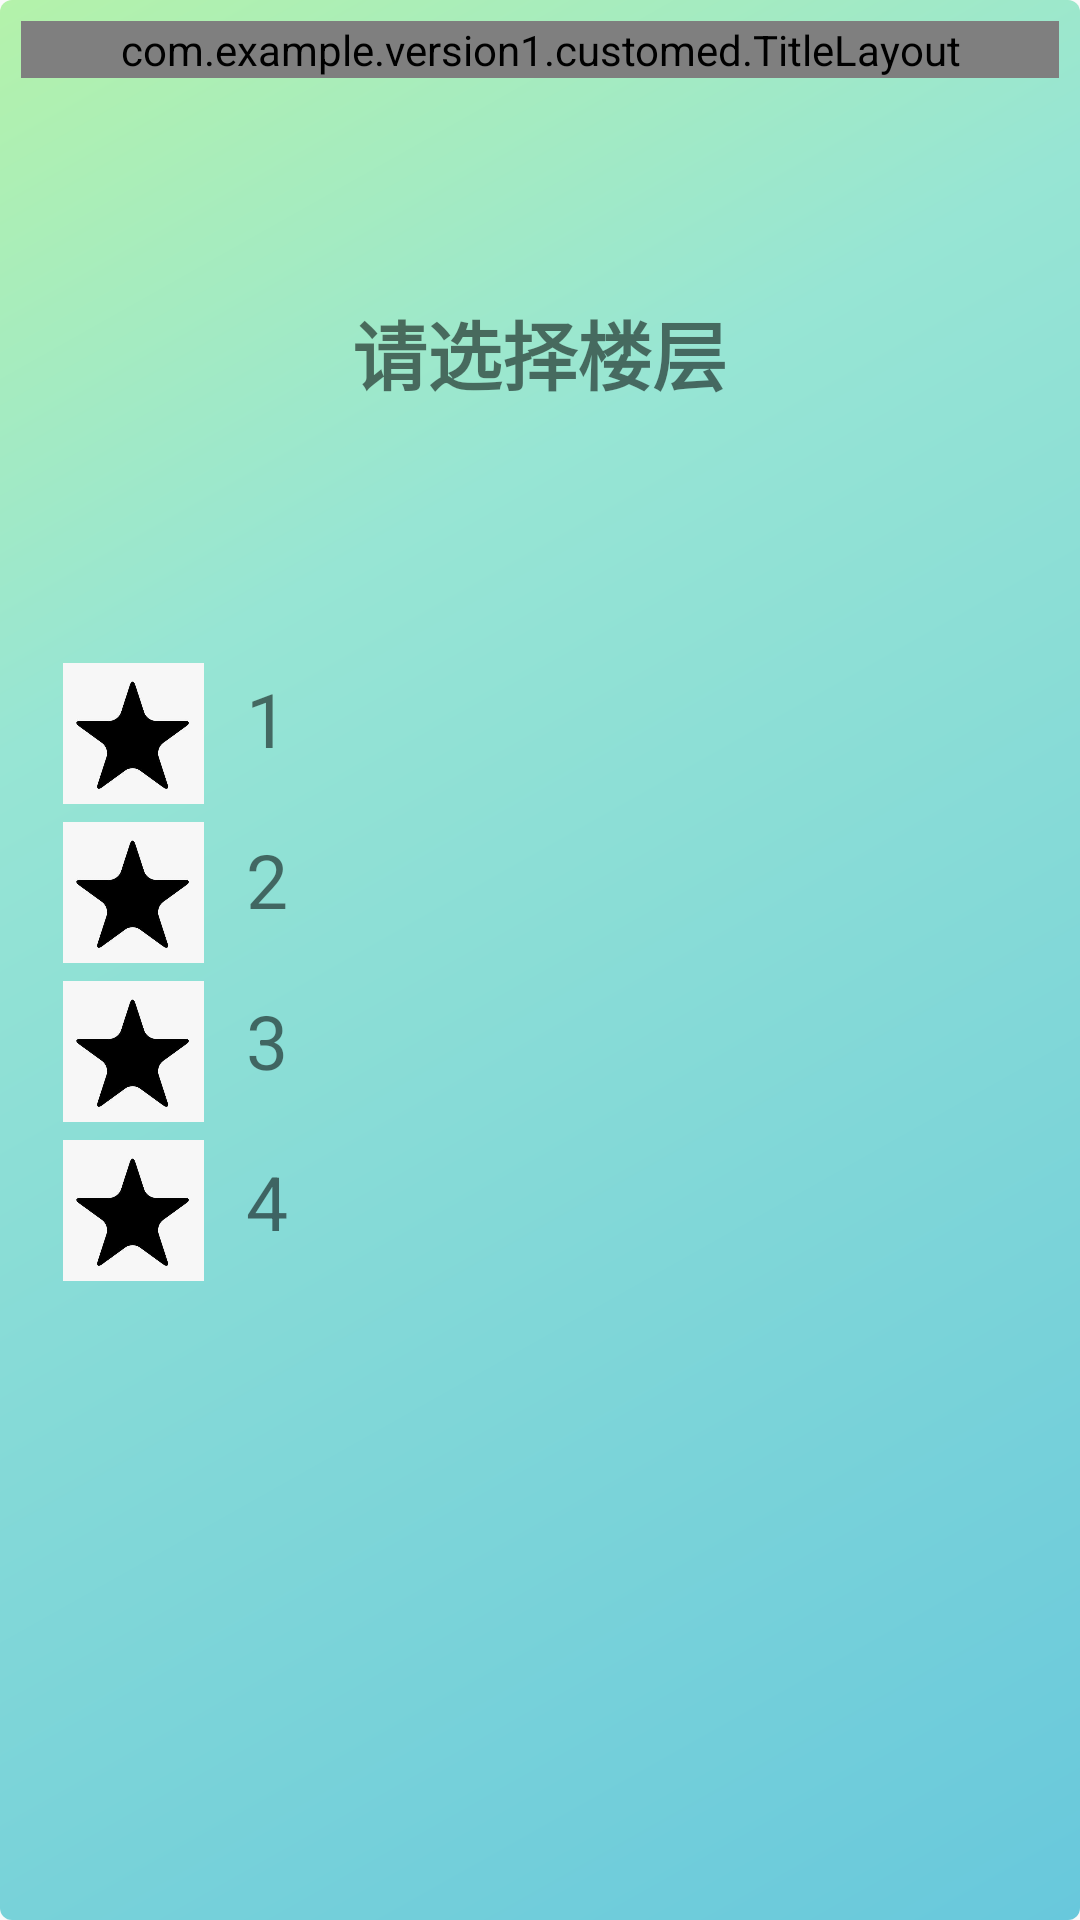

Locate icon controls on the screen. Image size 1080px×1920px, boxes as (left=x1, top=y1, right=x2, bottom=y2).
seatstar: (left=63, top=663, right=204, bottom=804), (left=63, top=822, right=204, bottom=963), (left=63, top=981, right=204, bottom=1122), (left=63, top=1140, right=204, bottom=1281)
